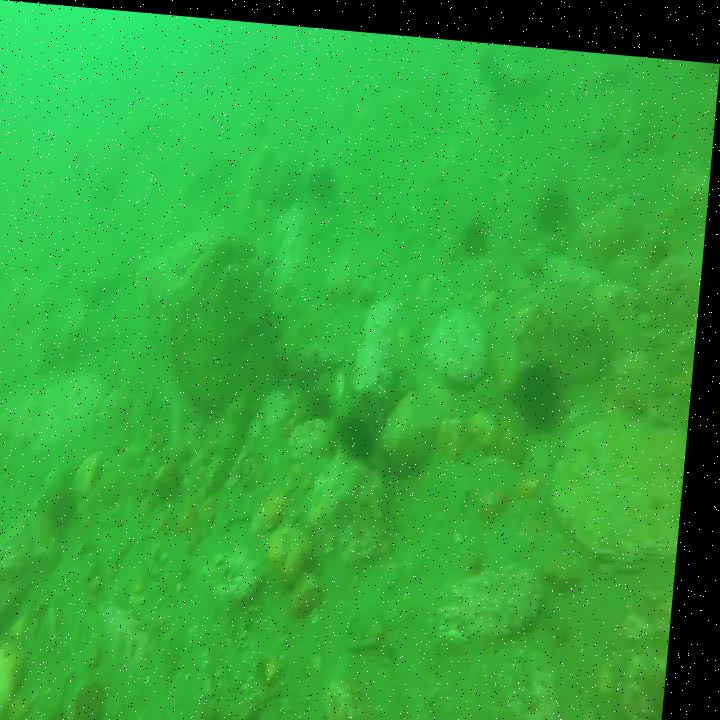echinus: (522, 350, 573, 419), (345, 403, 388, 457), (311, 153, 347, 199), (539, 177, 573, 223), (466, 214, 496, 254), (212, 712, 245, 720)
